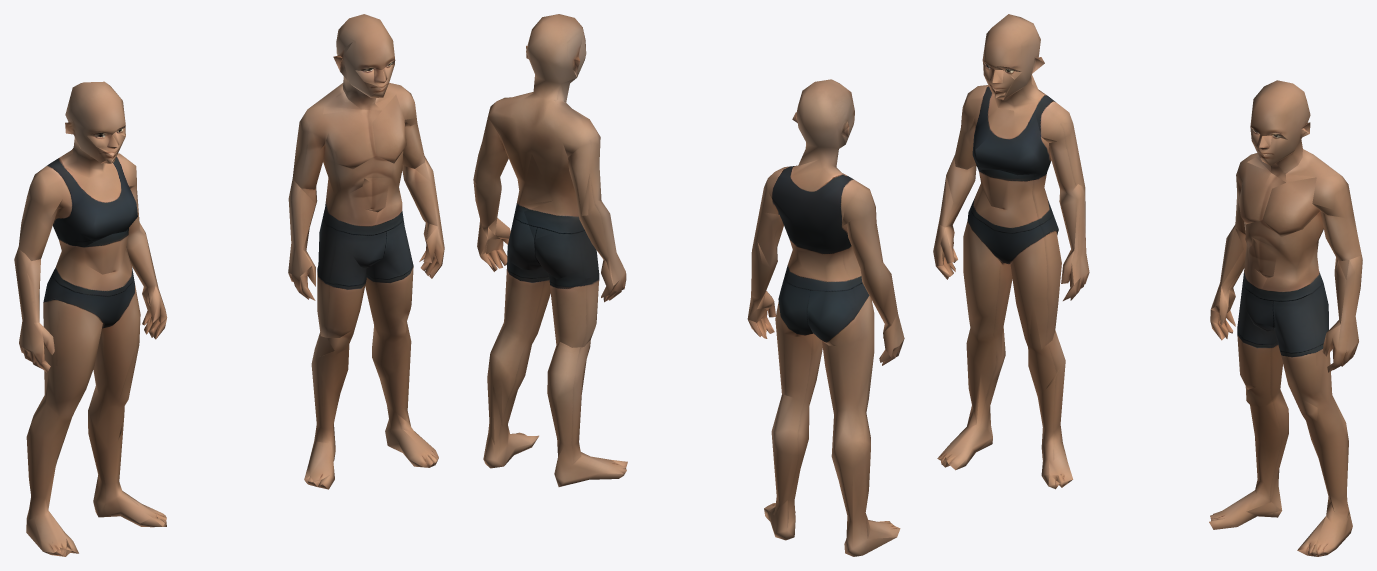
Rendered from base_basic_pbr.glb.
The picture shows the model from 3 angles, left to right: view 1: azimuth 30°, elevation 25°; view 2: azimuth 150°, elevation 25°; view 3: azimuth 330°, elevation 25°; orthographic projection.
Visible parts, largest first — view 1: model; view 2: model; view 3: model.
Part boxes in pixels (box(x1,y1,x2,y2)): model: box(14, 14, 444, 556); model: box(473, 14, 904, 556); model: box(933, 14, 1362, 556).
Bounding box in the file's own units: 1.68 × 1.73 × 0.3026.
1 material, 1 textured.
